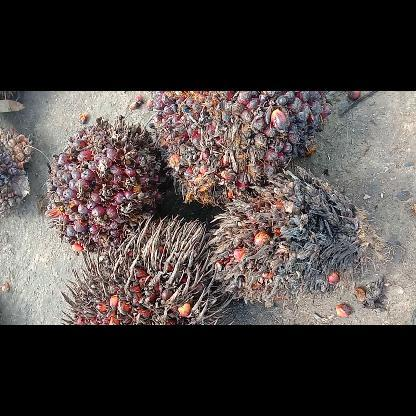TBS masak: (147, 90, 330, 206), (44, 117, 170, 252)
Terlalu masak: (206, 166, 374, 304), (60, 214, 232, 324)
